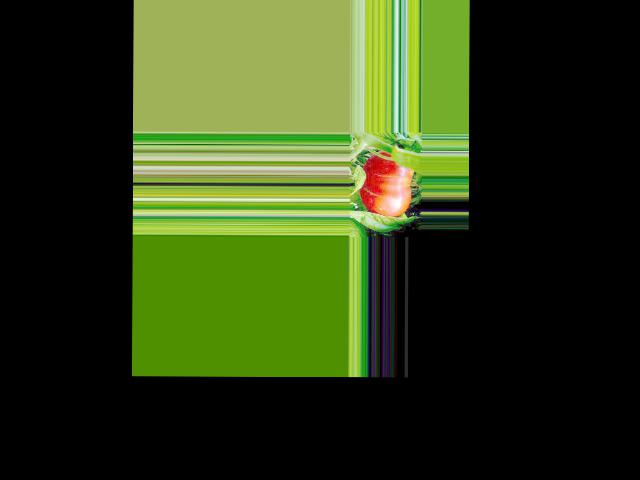tomato: (359, 150, 414, 217)
